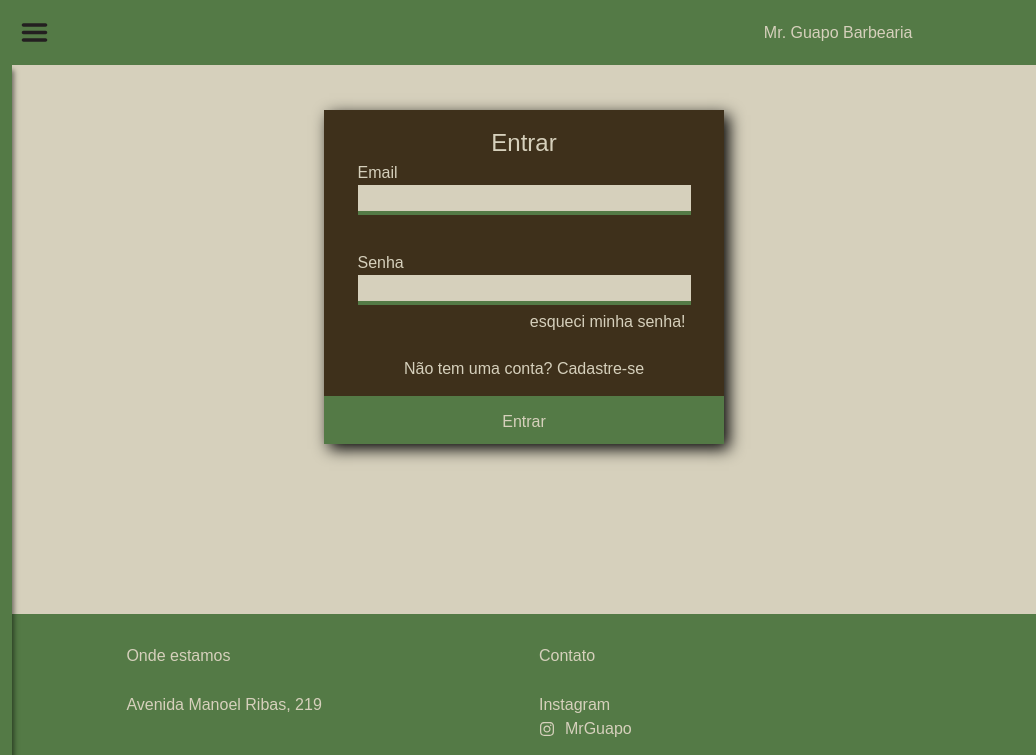
Fluxo de Login do Usuário › deve exibir erros de validação para campos obrigatórios vazios
Click the button with class "submit-button-login": x=524, y=422 [324,400,724,444]
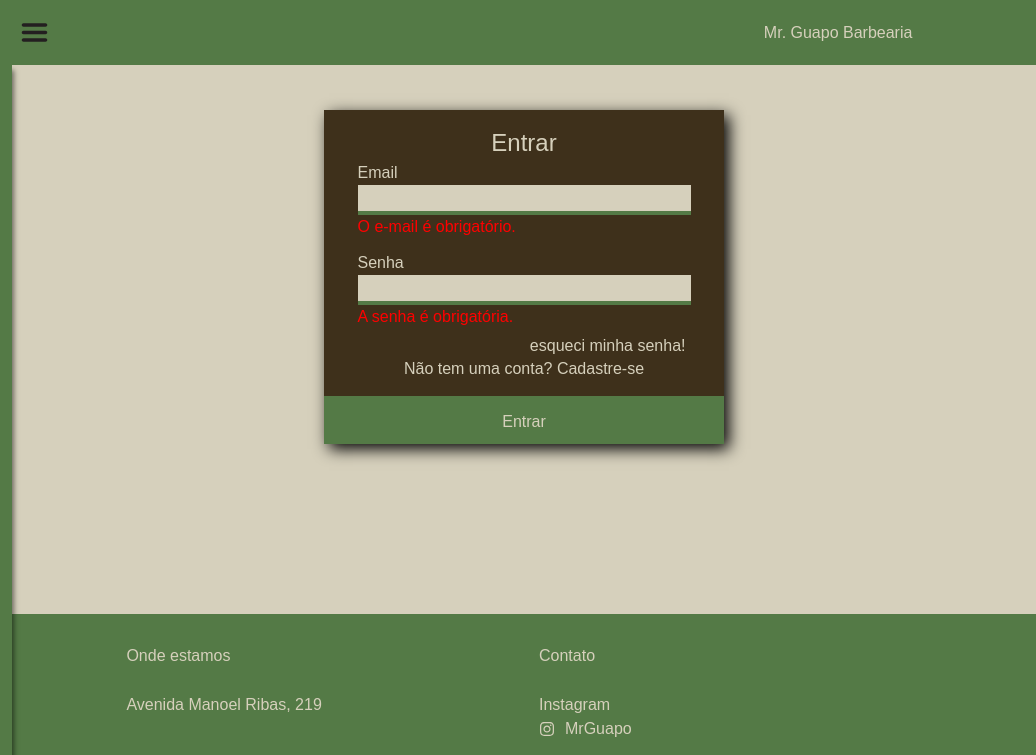
Expected: the text "O e-mail é obrigatório." is shown, [358,218,516,235]
Expected: the text "A senha é obrigatória." is shown, [358,308,513,325]
